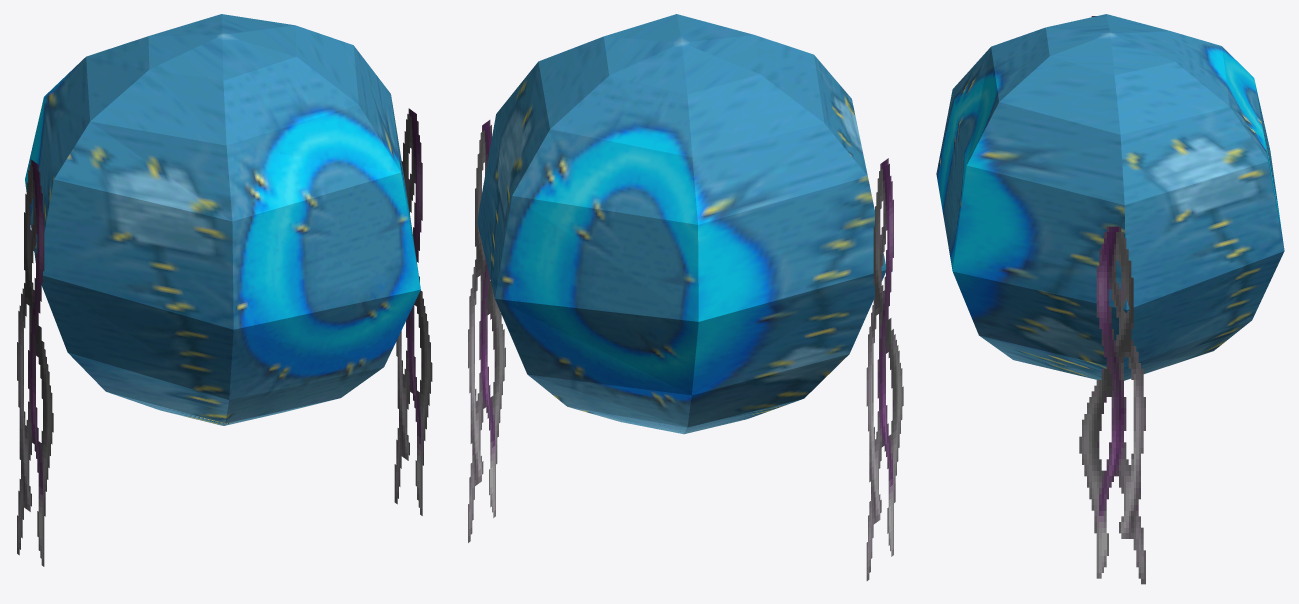
Rendered from lavaballoon-lod1.glb.
3 views of the same model, side by side, from view 1: azimuth 30°, elevation 25°; view 2: azimuth 150°, elevation 25°; view 3: azimuth 270°, elevation 25° (orthographic). The views are drawn at different scales.
Visible parts, largest first — view 1: lavaballoon-lod1; view 2: lavaballoon-lod1; view 3: lavaballoon-lod1.
Boxes of the visible parts, x1=… form: lavaballoon-lod1: x1=17, y1=14, x2=432, y2=566; lavaballoon-lod1: x1=468, y1=14, x2=903, y2=580; lavaballoon-lod1: x1=936, y1=14, x2=1284, y2=584.
Size of the model in its own units: 4.45 by 5.86 by 3.91.
2 materials, 2 textured.
